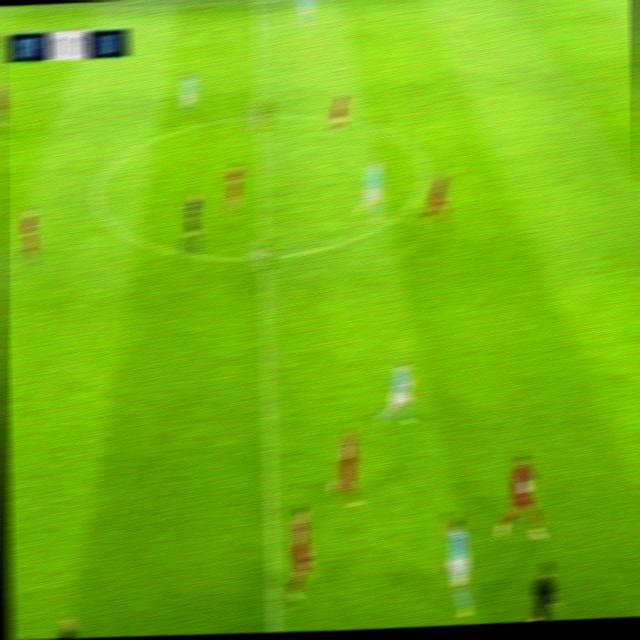halfcircle_bottom: (246, 238, 279, 273)
halfcircle_top: (242, 100, 275, 132)
midline_top_intersection: (245, 0, 270, 16)
